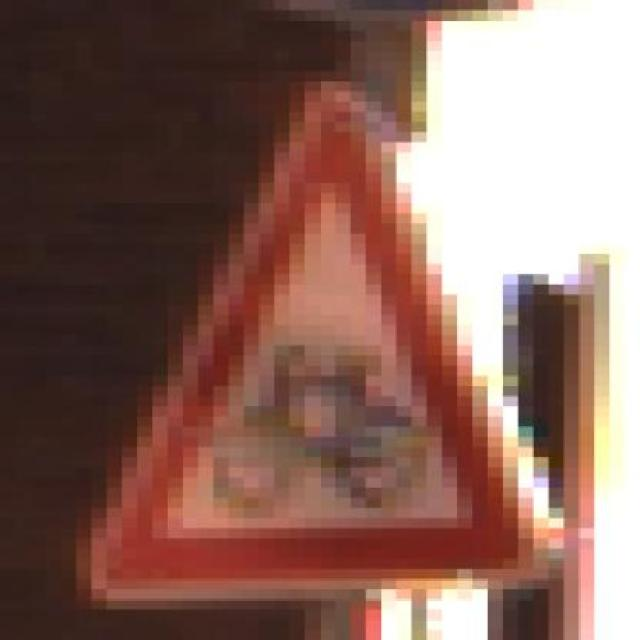CYCLE ROUTE AHEAD WARNING: (61, 61, 594, 610)
